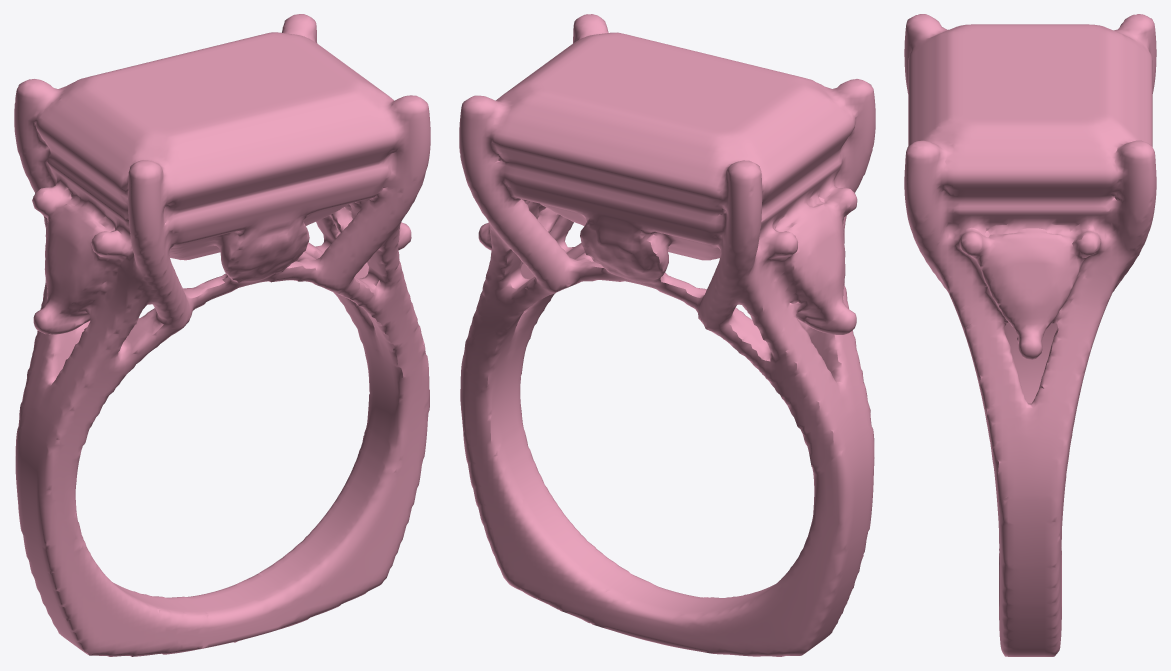
3 renders of one model, left to right at view 1: azimuth 30°, elevation 25°; view 2: azimuth 150°, elevation 25°; view 3: azimuth 270°, elevation 25°, orthographic. The views are drawn at different scales.
Parts seen in each view (by area): view 1: Object_2; view 2: Object_2; view 3: Object_2.
Boxes of the visible parts, x1,y1,x2,y2 form: Object_2: [14, 14, 430, 656]; Object_2: [459, 14, 875, 656]; Object_2: [904, 14, 1156, 656].
Size of the model in its own units: 0.7413 by 1 by 0.4274.
